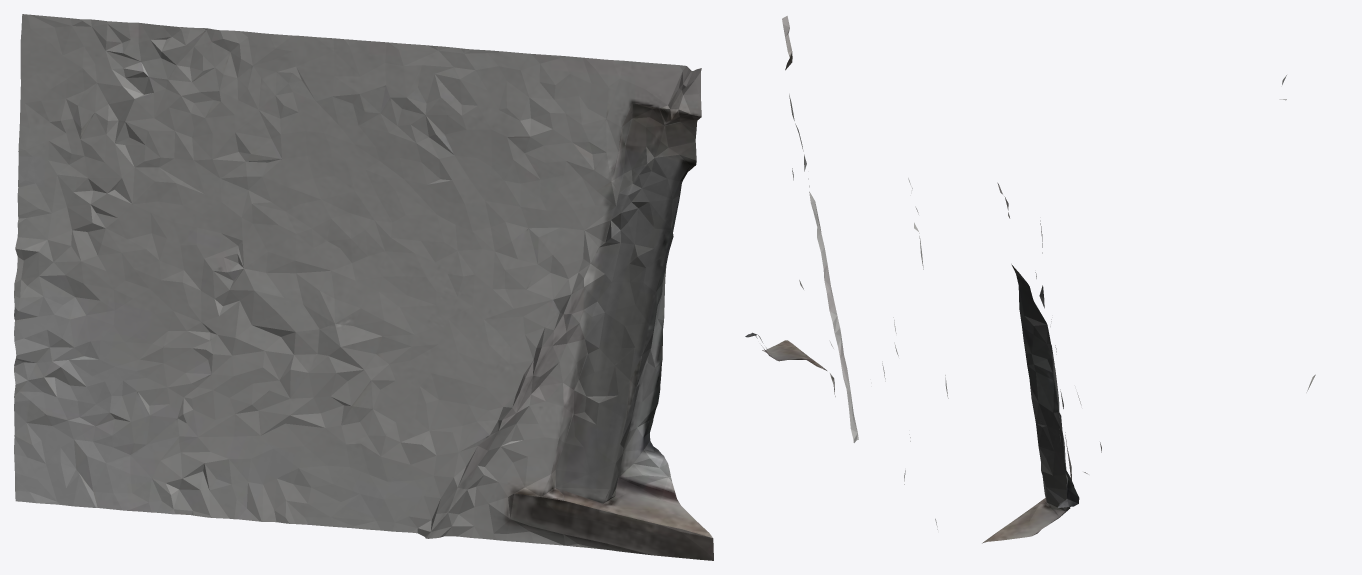
3 views of the same model, side by side, from view 1: azimuth 30°, elevation 25°; view 2: azimuth 150°, elevation 25°; view 3: azimuth 270°, elevation 25° (orthographic). The views are drawn at different scales.
Size of the model in its own units: 1.67 by 1.67 by 1.49.
3 materials, 3 textured.
